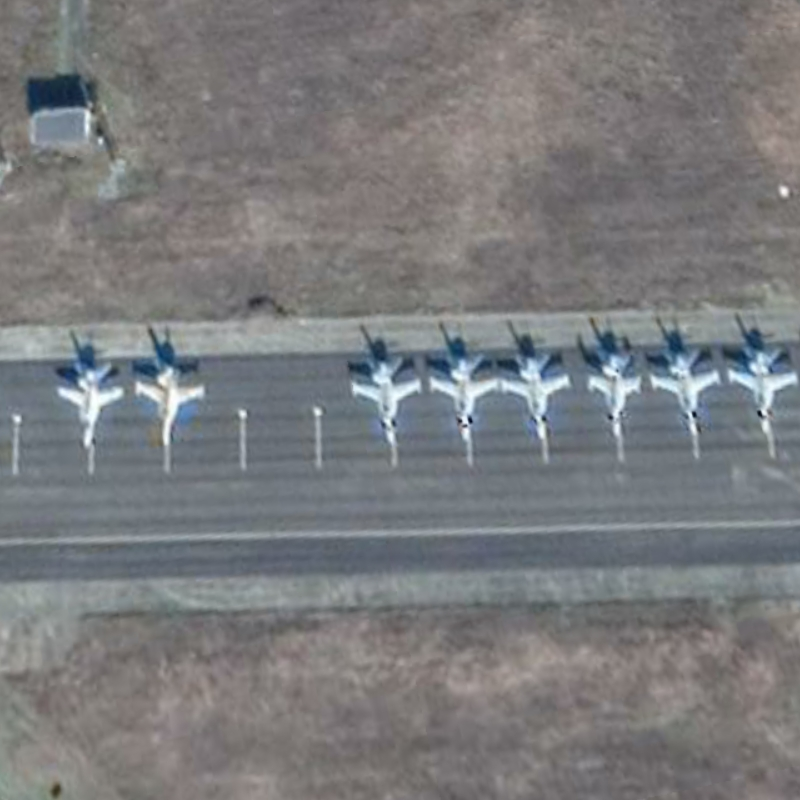A16: (342, 345, 425, 450), (131, 353, 212, 460), (49, 350, 128, 456), (426, 344, 502, 446), (649, 341, 723, 440), (503, 344, 576, 444), (724, 340, 800, 435), (584, 339, 645, 439)
